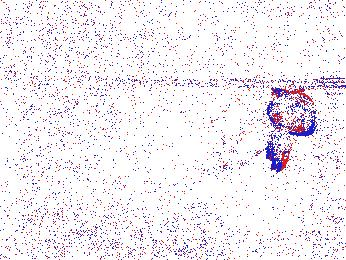flame jellyfish: (265, 91, 317, 172), (168, 200, 229, 247), (39, 206, 99, 252)
